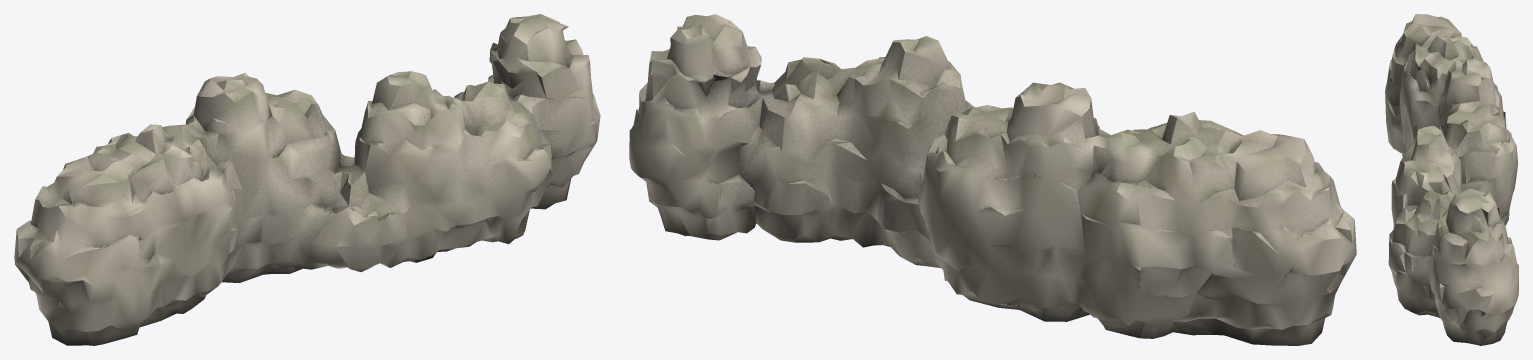
File: costa_horizonte_b.glb
3 views of the same model, side by side, from view 1: azimuth 30°, elevation 25°; view 2: azimuth 150°, elevation 25°; view 3: azimuth 270°, elevation 25° (orthographic). The views are drawn at different scales.
Parts seen in each view (by area): view 1: costa_horizonte_b; view 2: costa_horizonte_b; view 3: costa_horizonte_b.
Boxes of the visible parts, x1,y1,x2,y2 form: costa_horizonte_b: [14, 14, 600, 345]; costa_horizonte_b: [629, 14, 1356, 345]; costa_horizonte_b: [1385, 14, 1518, 345].
Bounding box in the file's own units: 70.43 × 21.97 × 17.23.
1 material, 1 textured.
